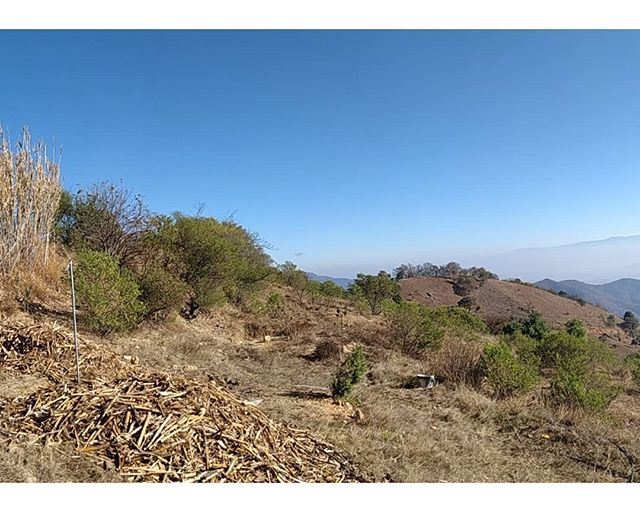sky: (1, 29, 640, 228)
tree: (62, 202, 169, 334), (153, 200, 255, 322), (1, 146, 67, 299), (470, 320, 544, 402), (555, 332, 616, 425), (402, 294, 494, 349), (344, 271, 404, 321)
